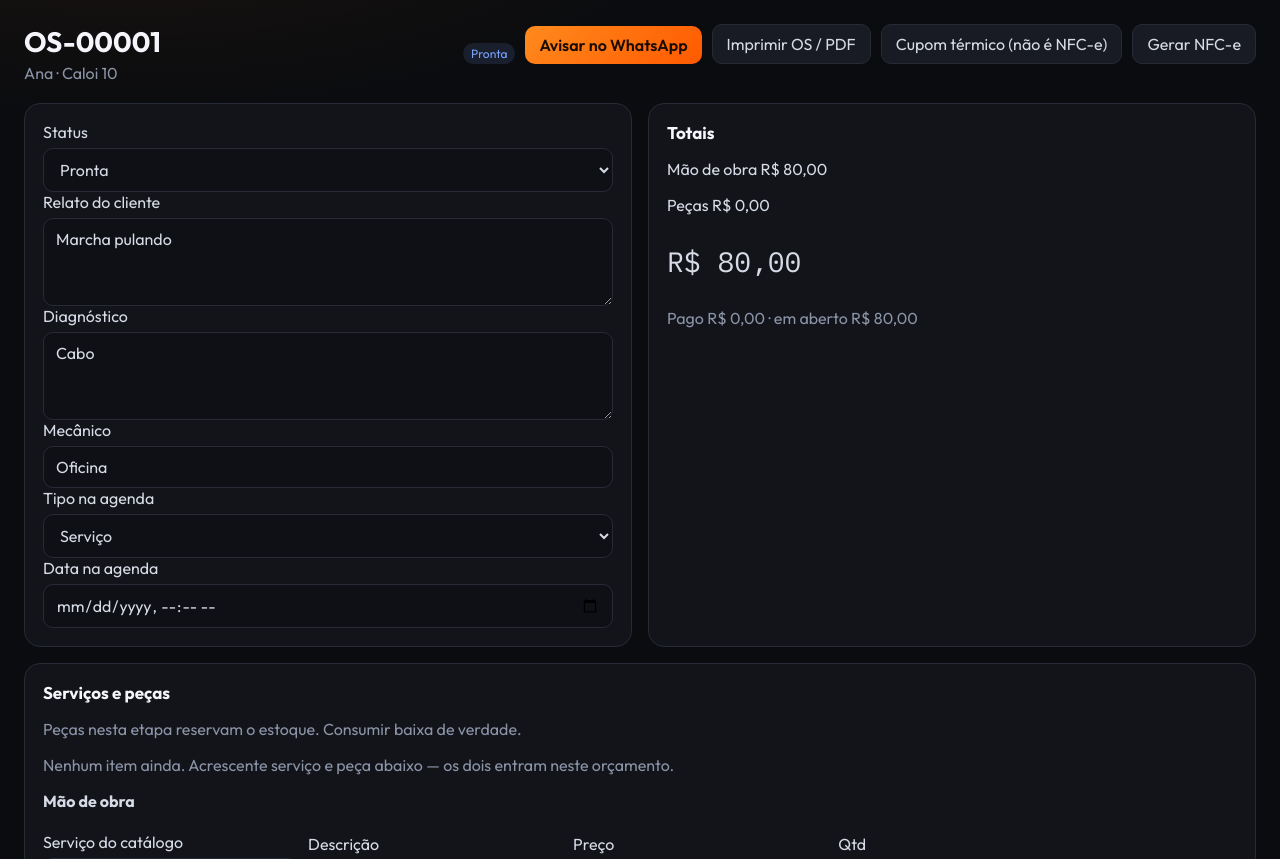
Test: OS pronta › restaura o diagnóstico se o PATCH falhar
Replace the text in the text box labelled "Diagnóstico" with "texto novo" at [328, 376], box [43,332,613,420]
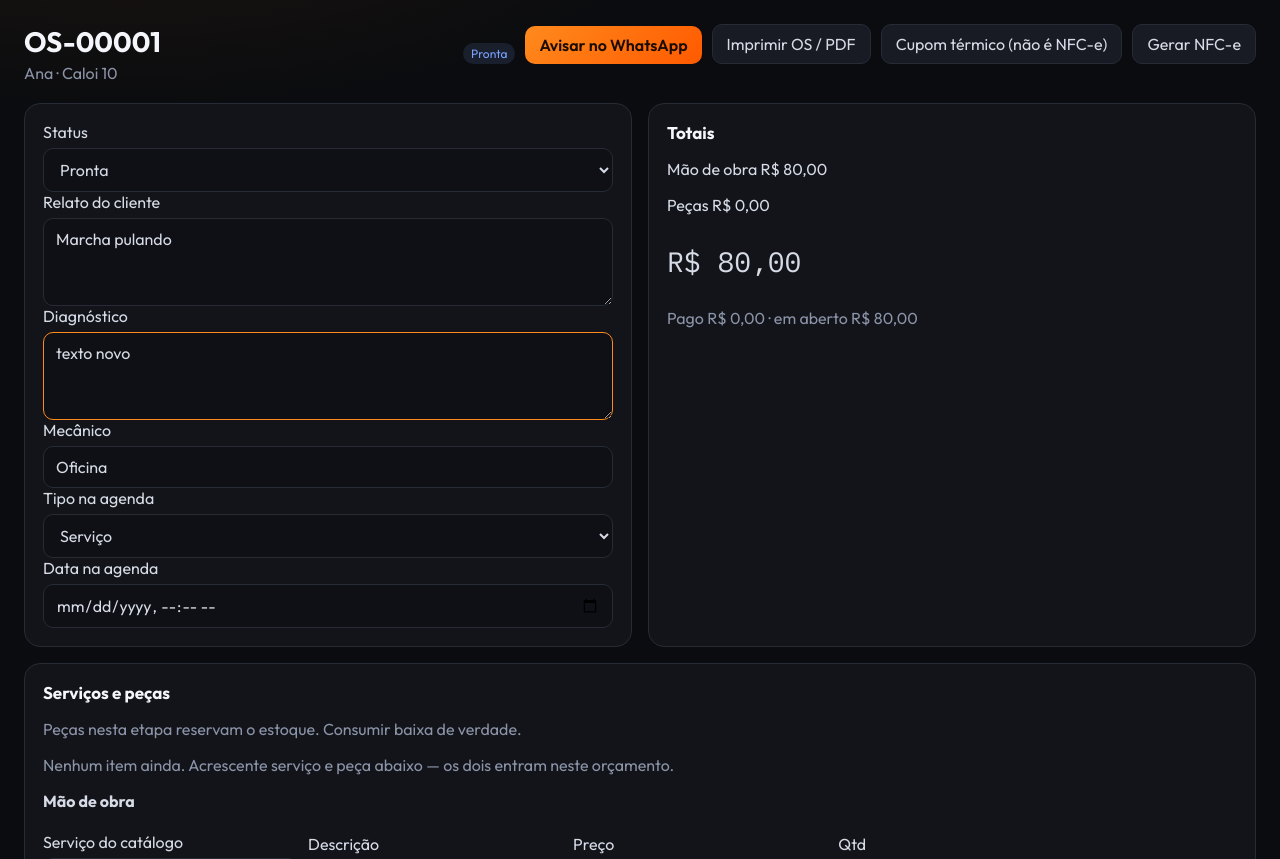
Leave the text box labelled "Diagnóstico", box [43,332,613,420]
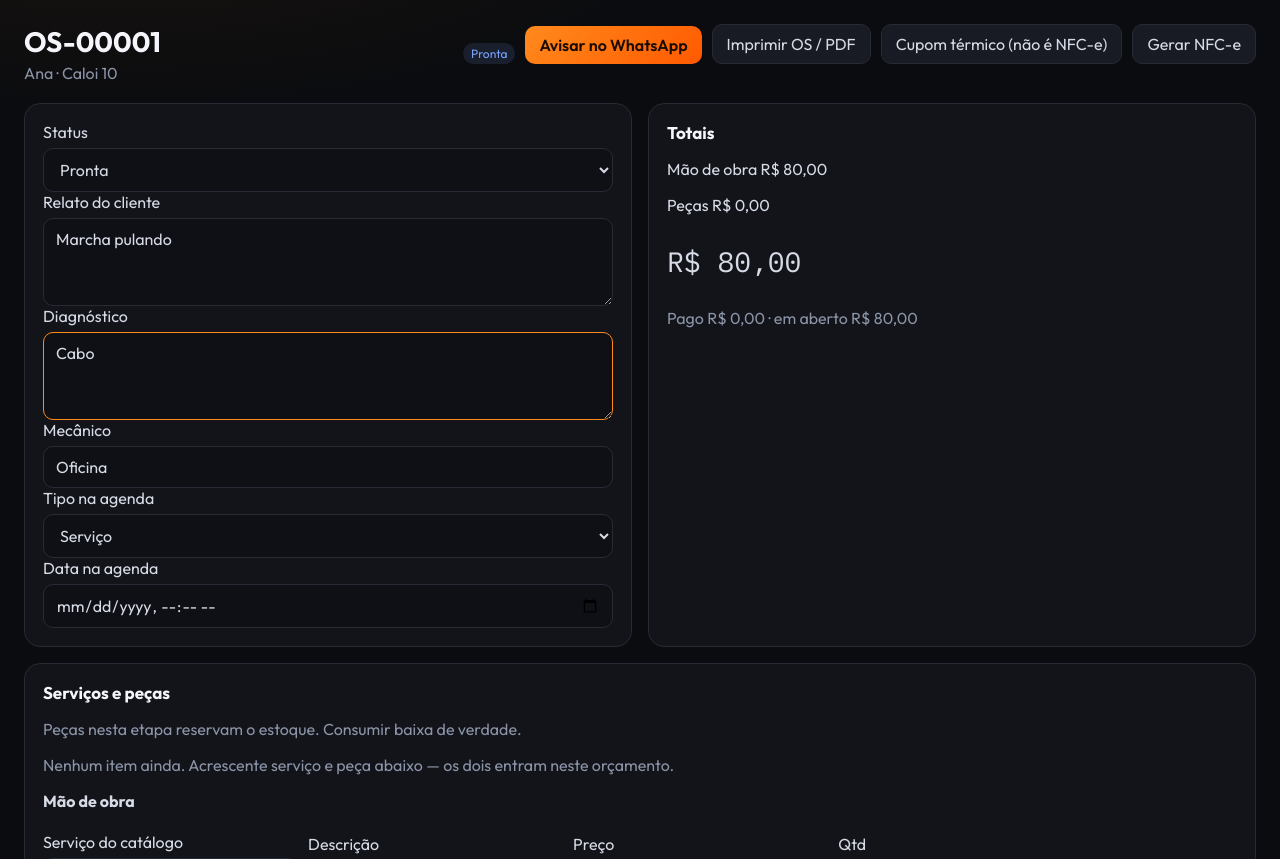
expect the text box labelled "Diagnóstico" holds "Cabo": met, box [43,332,613,420]
